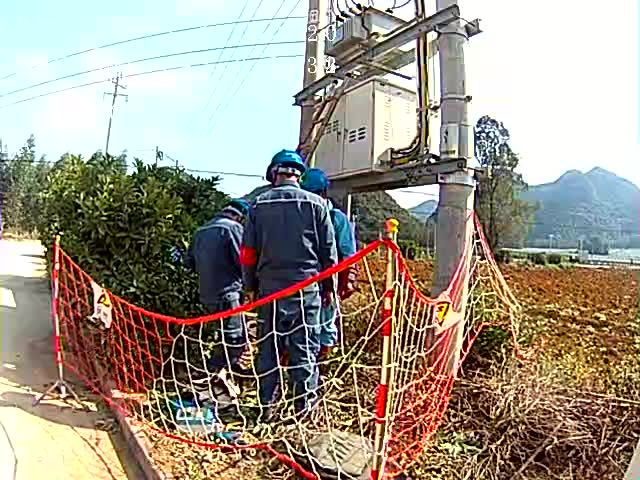badge: (240, 246, 259, 267)
downsuit: (256, 302, 319, 404), (202, 294, 247, 377)
halt: (266, 149, 307, 186), (300, 168, 330, 198)
inear: (267, 165, 282, 181)
longglove: (337, 265, 356, 301)
person: (242, 151, 356, 410), (189, 200, 247, 380)
upsuit: (245, 187, 334, 300), (193, 217, 244, 299)
